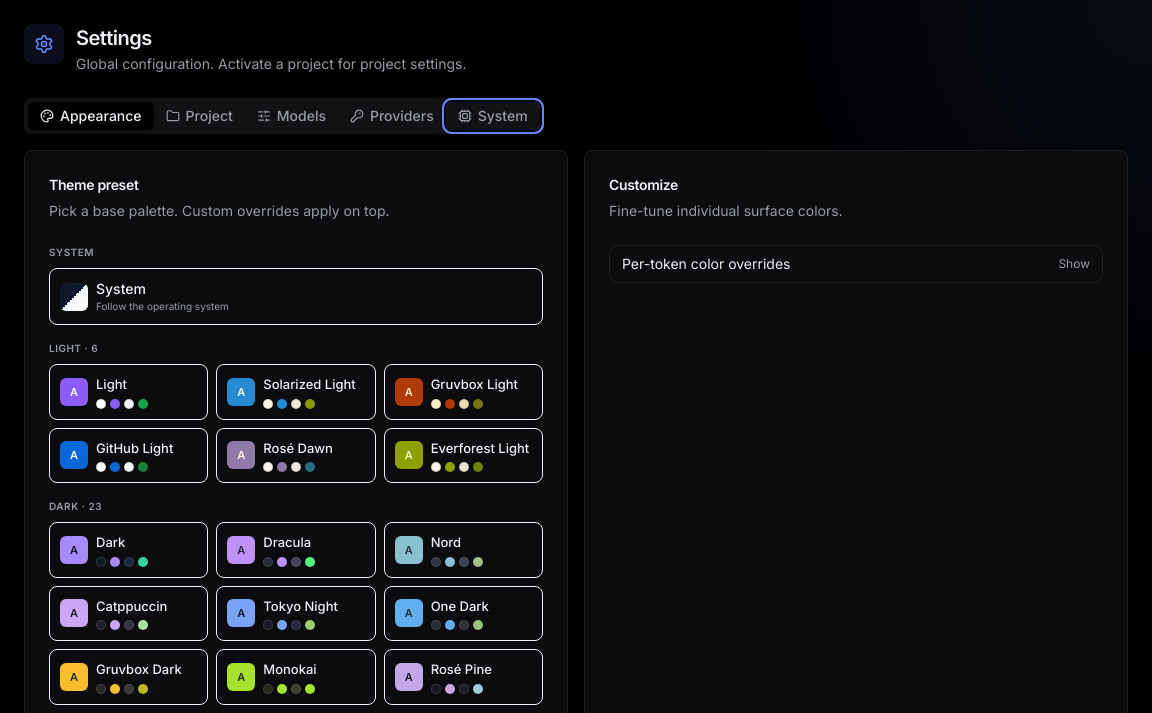
Scenario: Settings without an active project › renders the global runtime defaults with no project selected
The width and height of the screenshot is (1152, 713).
Click the tab "System". click: (493, 116)
box: left=446, top=102, right=540, bottom=130
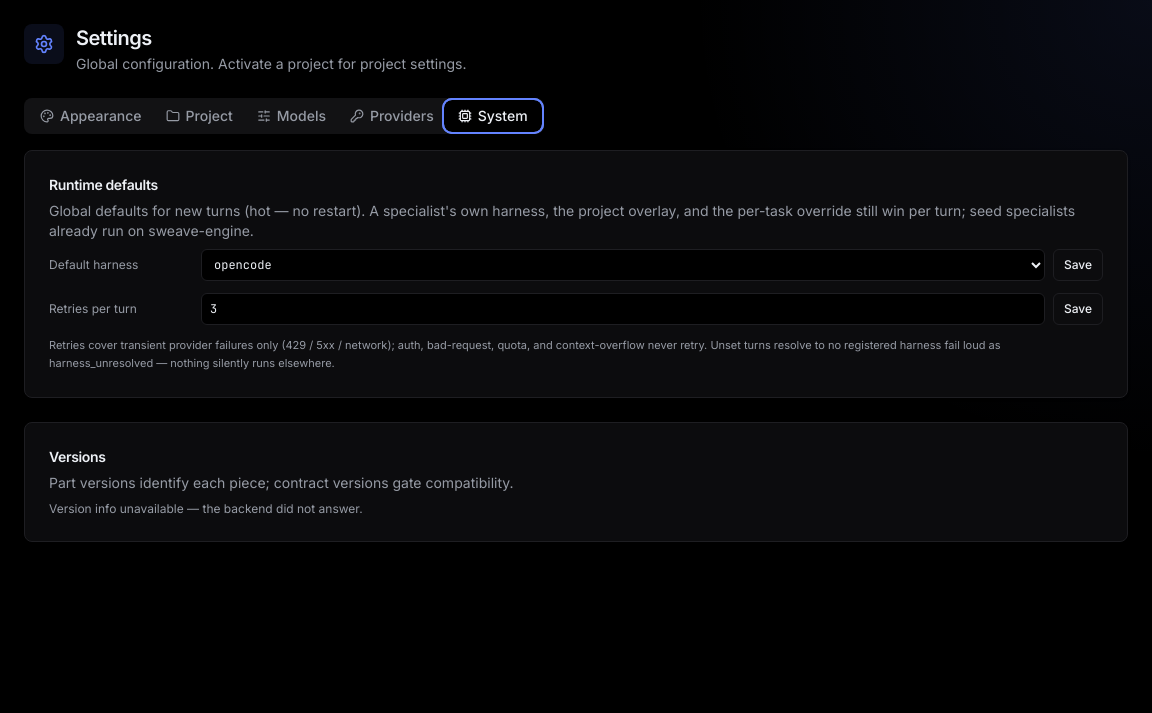
Expected: the dropdown with test id "runtime-harness" shows "opencode", left=201, top=249, right=1045, bottom=281
Expected: the field with test id "runtime-retries" is shown, left=201, top=293, right=1045, bottom=325
